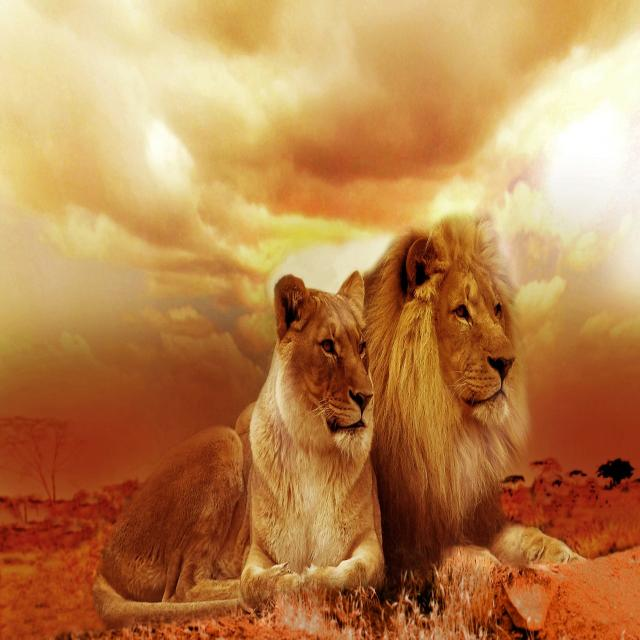Carnivorous: (92, 272, 386, 640), (364, 219, 518, 634)
